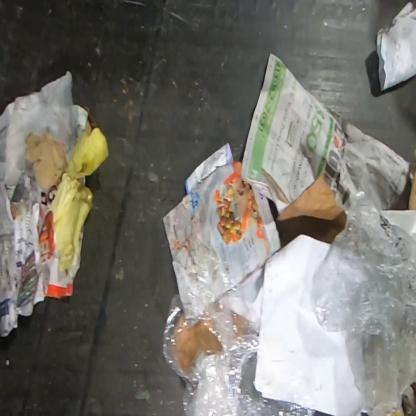cardboard: (274, 174, 346, 249), (407, 152, 415, 211)
soft_plastic: (163, 250, 318, 416), (311, 191, 415, 415)
